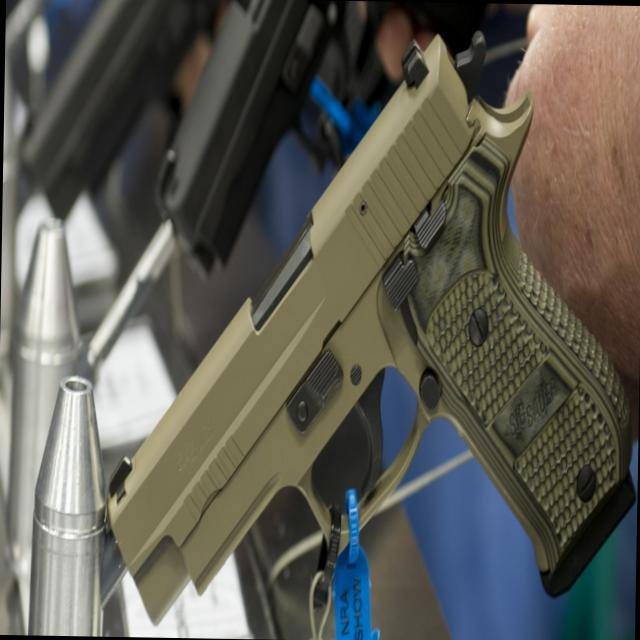handgun: (101, 23, 639, 631)
